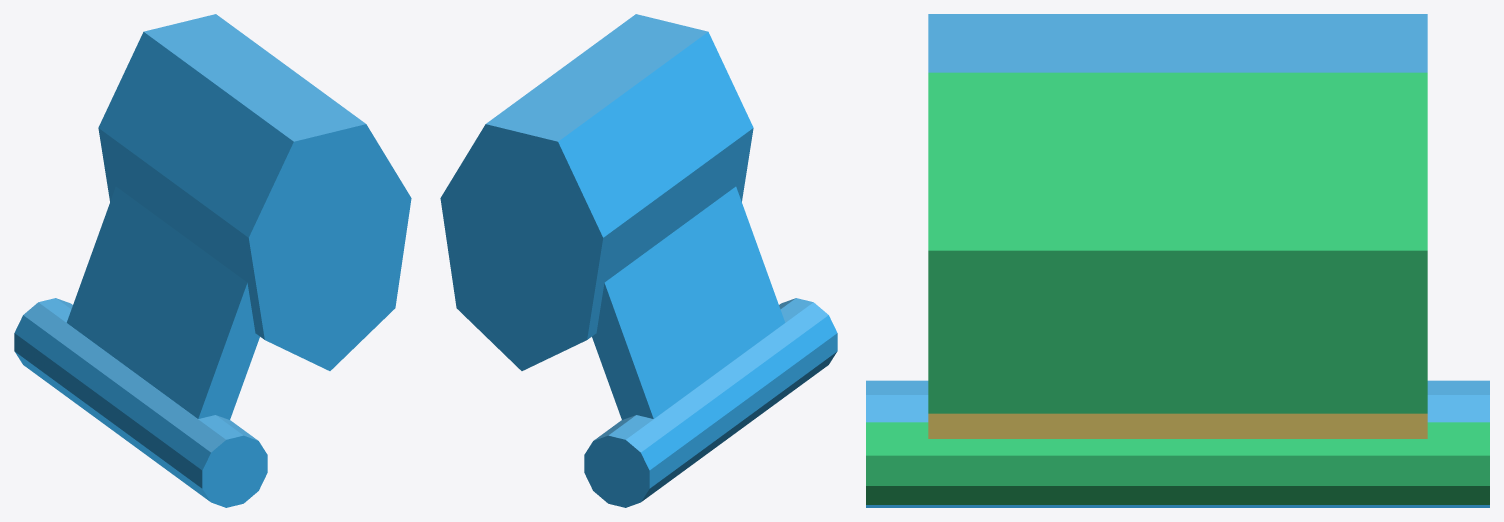
The model's file is switch-lever.obj.
3 renders of one model, left to right at view 1: azimuth 30°, elevation 25°; view 2: azimuth 150°, elevation 25°; view 3: azimuth 270°, elevation 25°, orthographic. The views are drawn at different scales.
Parts seen in each view (by area): view 1: cylinder; view 2: cylinder; view 3: cylinder.
Boxes of the visible parts, x1,y1,x2,y2 form: cylinder: [14, 14, 411, 507]; cylinder: [440, 14, 837, 507]; cylinder: [866, 14, 1489, 507].
Size of the model in its own units: 0.2188 by 0.3039 by 0.3125.
Materials: 1 (1 with a texture image).
